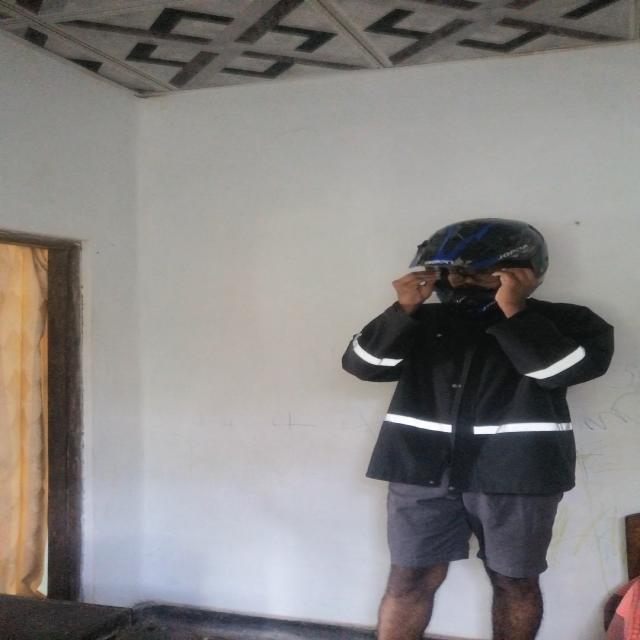Helmet_Wearer: (393, 212, 554, 326)
Jacket_Wearer: (338, 294, 628, 495)
Person: (348, 219, 610, 640)
